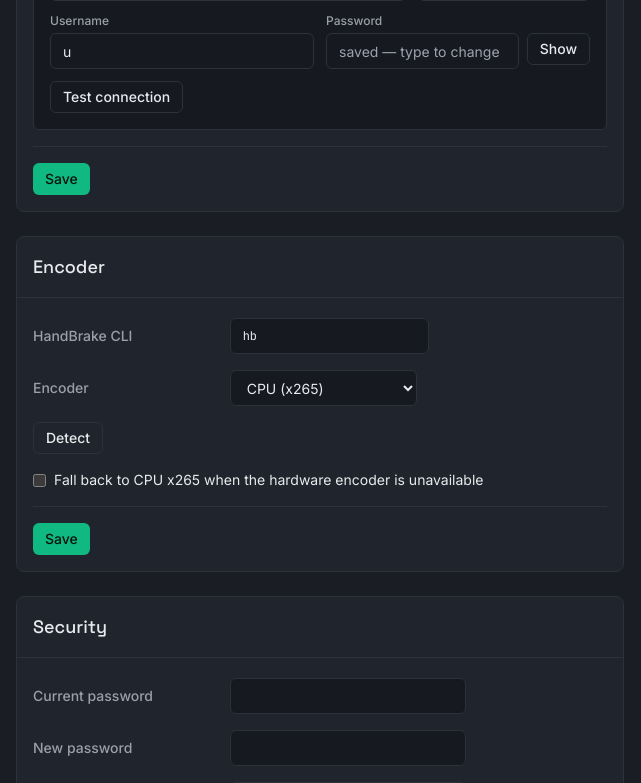
Scenario: preset fields are hidden unless Custom is selected
The width and height of the screenshot is (641, 783).
(page scrolled)
expect the field labelled "1080p preset" is not shown: met
Select "Custom…" in the dropdown labelled "Encoder". click: (323, 388)
box: [230,370,417,406]
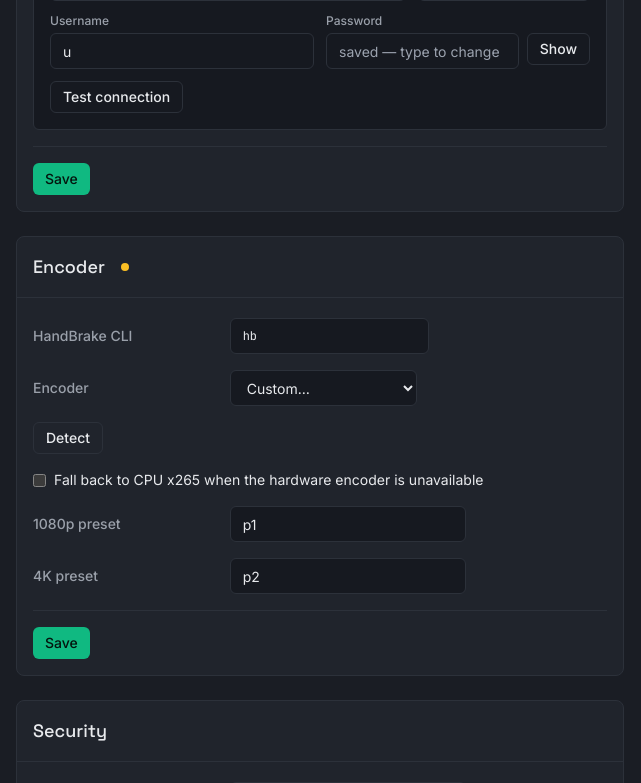
expect the field labelled "1080p preset" is shown: met, box [230,506,466,542]
expect the field labelled "4K preset" is shown: met, box [230,558,466,594]
